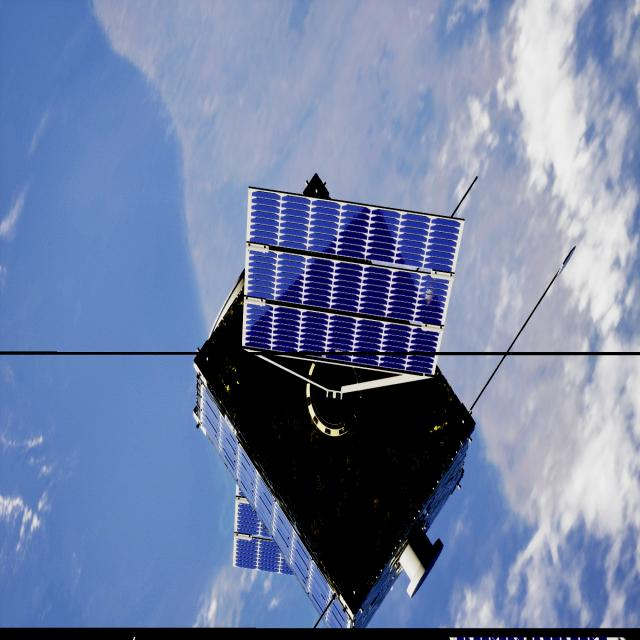medium_debris: (193, 175, 475, 623)
